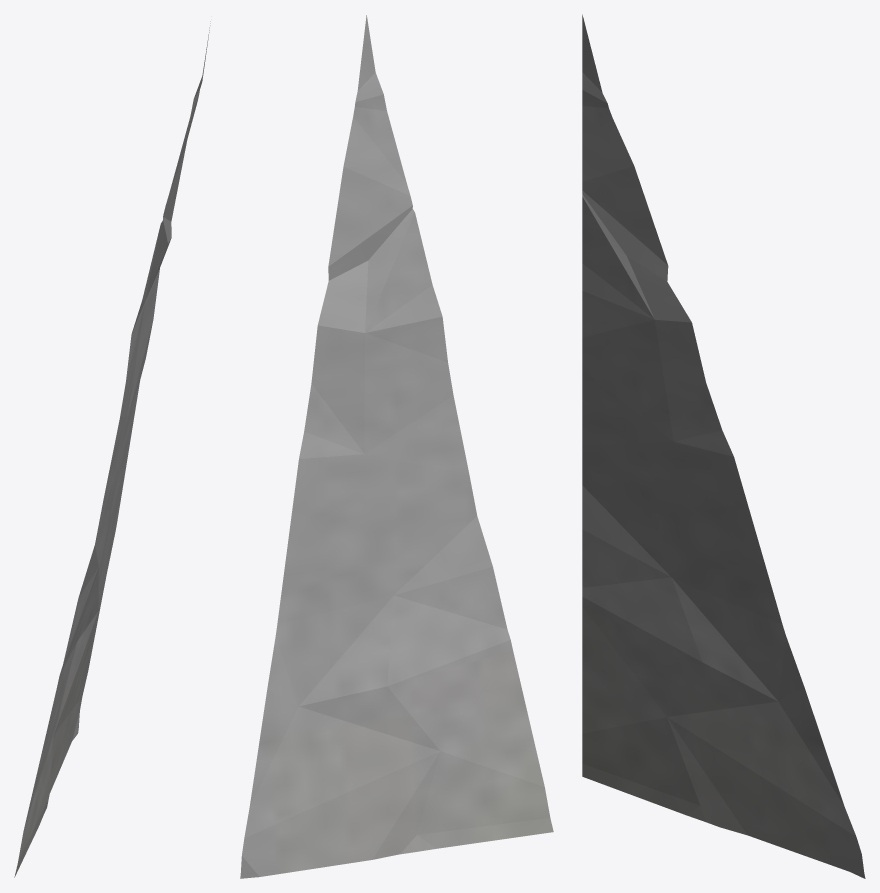
The picture shows the model from 3 angles, left to right: view 1: azimuth 30°, elevation 25°; view 2: azimuth 150°, elevation 25°; view 3: azimuth 270°, elevation 25°; orthographic projection. The views are drawn at different scales.
Size of the model in its own units: 0.0736 by 0.2902 by 0.0861.
1 material, 1 textured.
